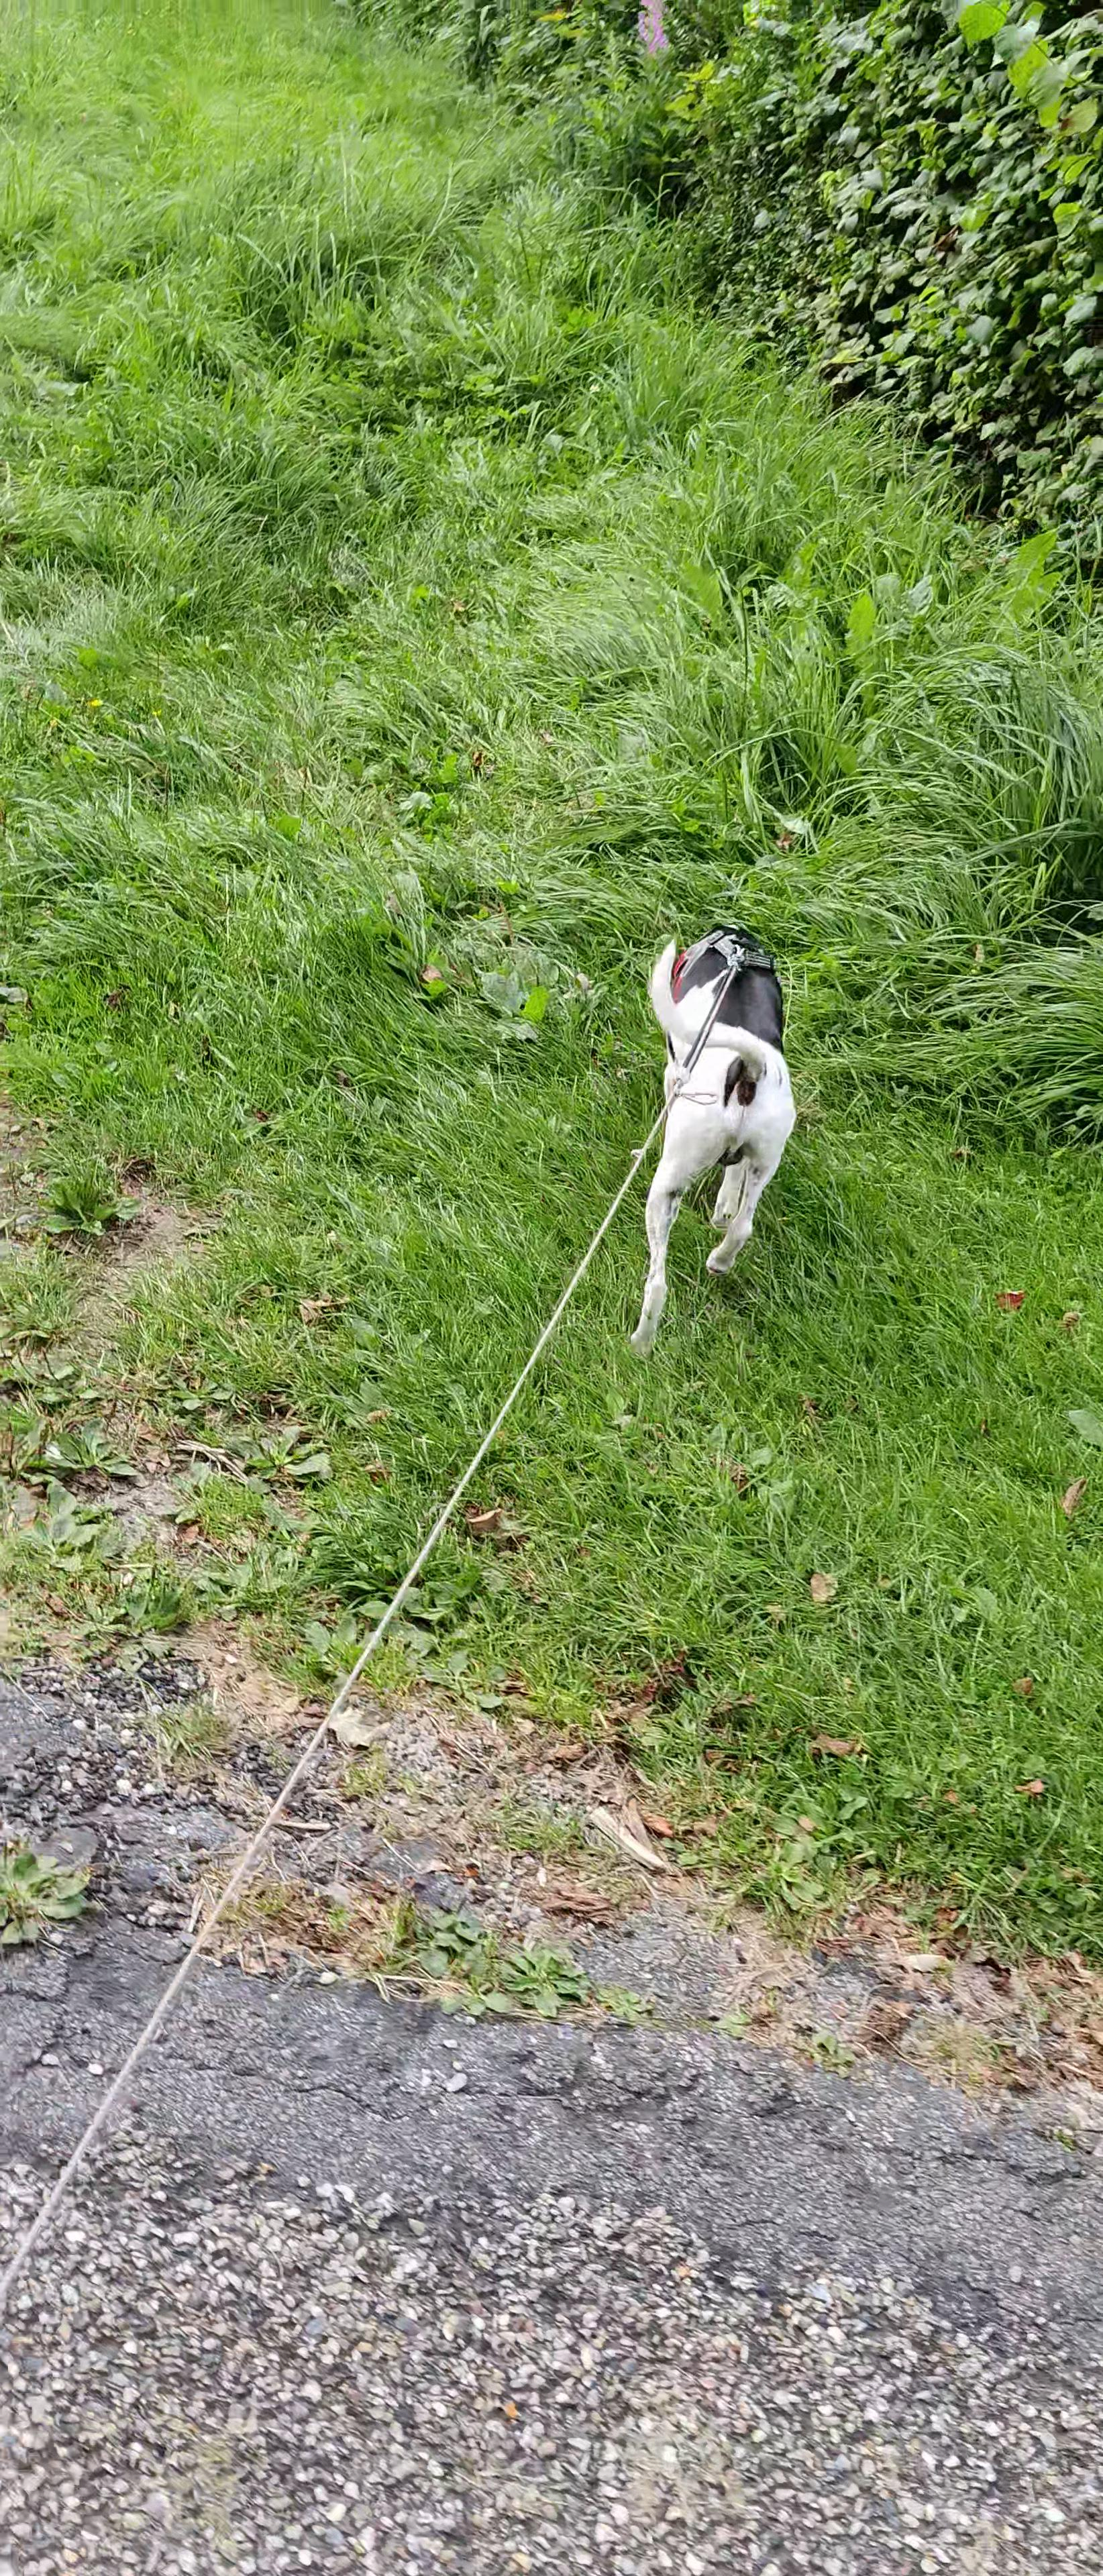Dog: (592, 910, 812, 1362)
